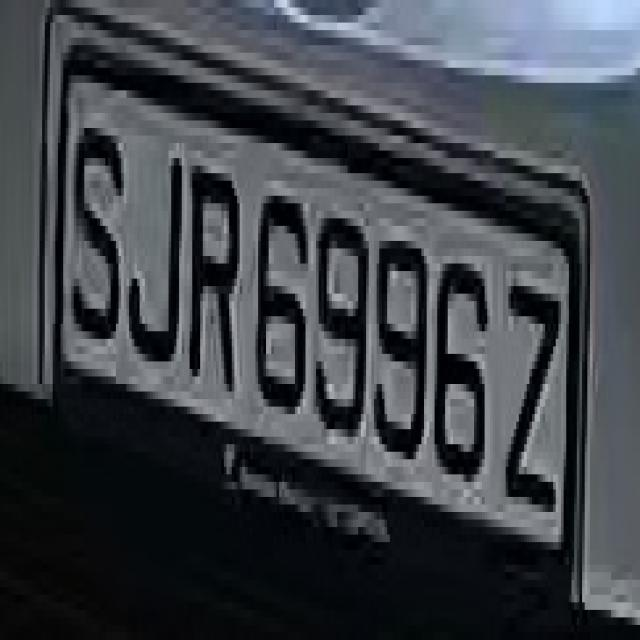6: (432, 226, 495, 504), (250, 158, 316, 422)
9: (369, 181, 432, 489), (311, 181, 369, 467)
J: (121, 98, 192, 376)
R: (187, 121, 248, 429)
S: (74, 98, 121, 361)
Z: (498, 226, 569, 565)
